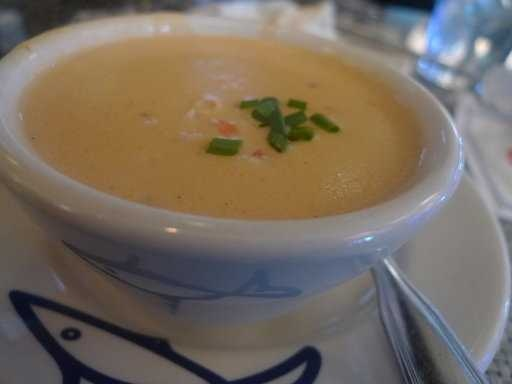soup: (1, 29, 447, 224)
